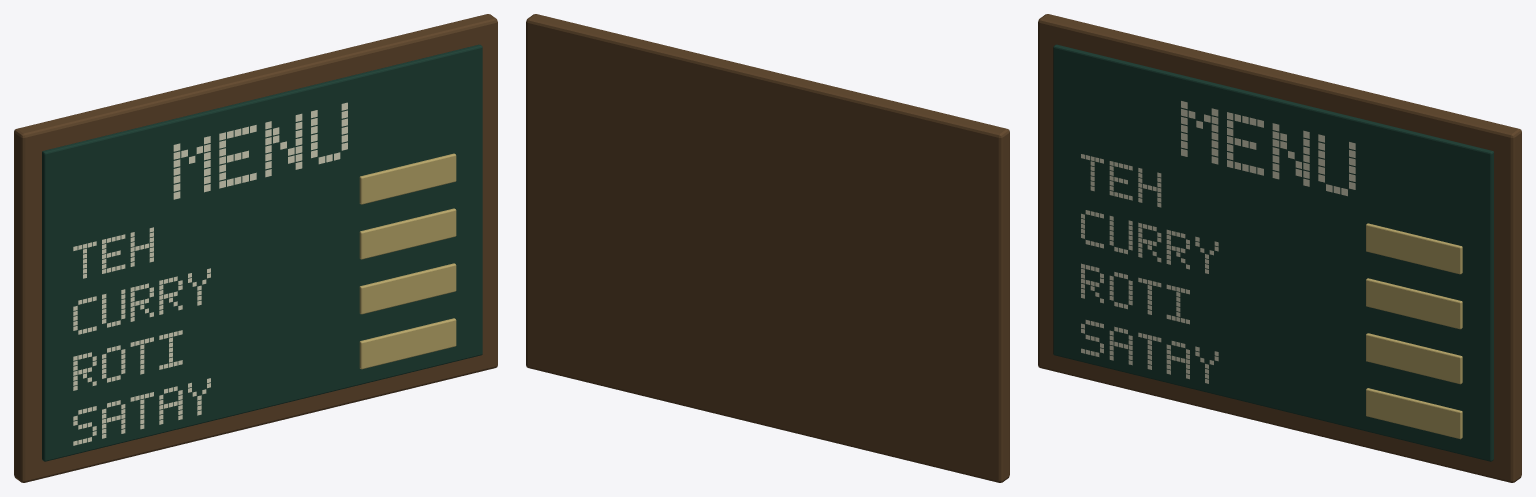
File: mamak-wall-menu-board.glb
The picture shows the model from 3 angles, left to right: view 1: azimuth 30°, elevation 25°; view 2: azimuth 150°, elevation 25°; view 3: azimuth 330°, elevation 25°; orthographic projection.
Visible parts, largest first — view 1: BOARD_Face, BOARD_Back, LABEL_MENU, PRICE_Replaceable_CURRY, PRICE_Replaceable_SATAY, PRICE_Replaceable_ROTI, PRICE_Replaceable_TEH, LABEL_CURRY, LABEL_SATAY, LABEL_ROTI, LABEL_TEH; view 2: BOARD_Back; view 3: BOARD_Face, BOARD_Back, LABEL_MENU, PRICE_Replaceable_CURRY, PRICE_Replaceable_TEH, PRICE_Replaceable_ROTI, PRICE_Replaceable_SATAY, LABEL_CURRY, LABEL_SATAY, LABEL_ROTI, LABEL_TEH.
Part boxes in pixels (x1,y1,x2,y2): BOARD_Face: [42, 44, 482, 461]; BOARD_Back: [14, 14, 497, 482]; LABEL_MENU: [173, 102, 347, 199]; PRICE_Replaceable_CURRY: [359, 208, 456, 259]; PRICE_Replaceable_SATAY: [359, 318, 456, 369]; PRICE_Replaceable_ROTI: [359, 263, 456, 314]; PRICE_Replaceable_TEH: [359, 153, 456, 204]; LABEL_CURRY: [73, 268, 210, 334]; LABEL_SATAY: [73, 378, 210, 445]; LABEL_ROTI: [73, 330, 182, 390]; LABEL_TEH: [73, 227, 153, 278]; BOARD_Back: [526, 14, 1009, 482]; BOARD_Face: [1053, 44, 1493, 461]; BOARD_Back: [1038, 14, 1521, 482]; LABEL_MENU: [1181, 101, 1355, 196]; PRICE_Replaceable_CURRY: [1366, 278, 1462, 329]; PRICE_Replaceable_TEH: [1366, 223, 1462, 274]; PRICE_Replaceable_ROTI: [1366, 333, 1462, 384]; PRICE_Replaceable_SATAY: [1366, 388, 1462, 439]; LABEL_CURRY: [1081, 210, 1218, 273]; LABEL_SATAY: [1081, 320, 1218, 383]; LABEL_ROTI: [1081, 263, 1189, 324]; LABEL_TEH: [1081, 154, 1161, 207].
Size of the model in its own units: 1 by 0.7 by 0.0535.
